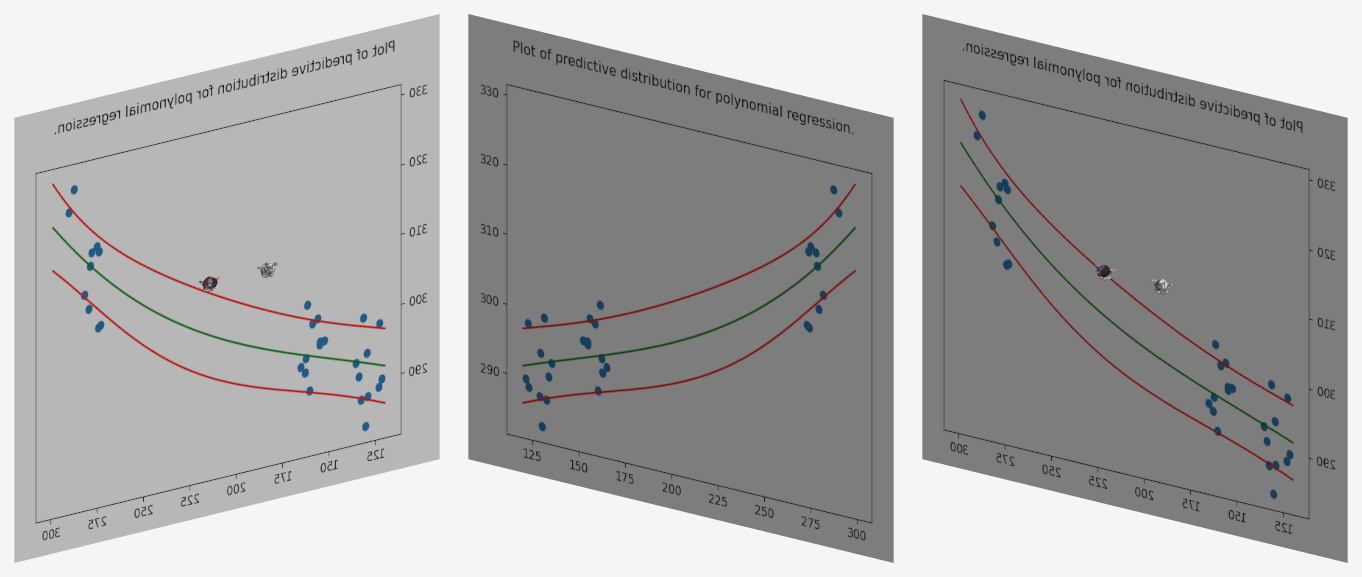
The picture shows the model from 3 angles, left to right: view 1: azimuth 30°, elevation 25°; view 2: azimuth 150°, elevation 25°; view 3: azimuth 330°, elevation 25°; orthographic projection.
Parts seen in each view (by area): view 1: Plane; view 2: Plane; view 3: Plane.
Boxes of the visible parts, <box> form: Plane: <box>14,14,439,562</box>; Plane: <box>468,14,893,562</box>; Plane: <box>922,14,1347,562</box>.
Bounding box in the file's own units: 55.96 × 55.96 × 2.3.
3 materials, 3 textured.
